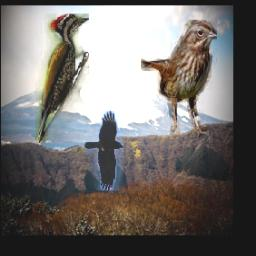Crow: (85, 111, 124, 191)
Sparrow: (141, 21, 217, 138)
Woodpecker: (36, 13, 90, 143)
